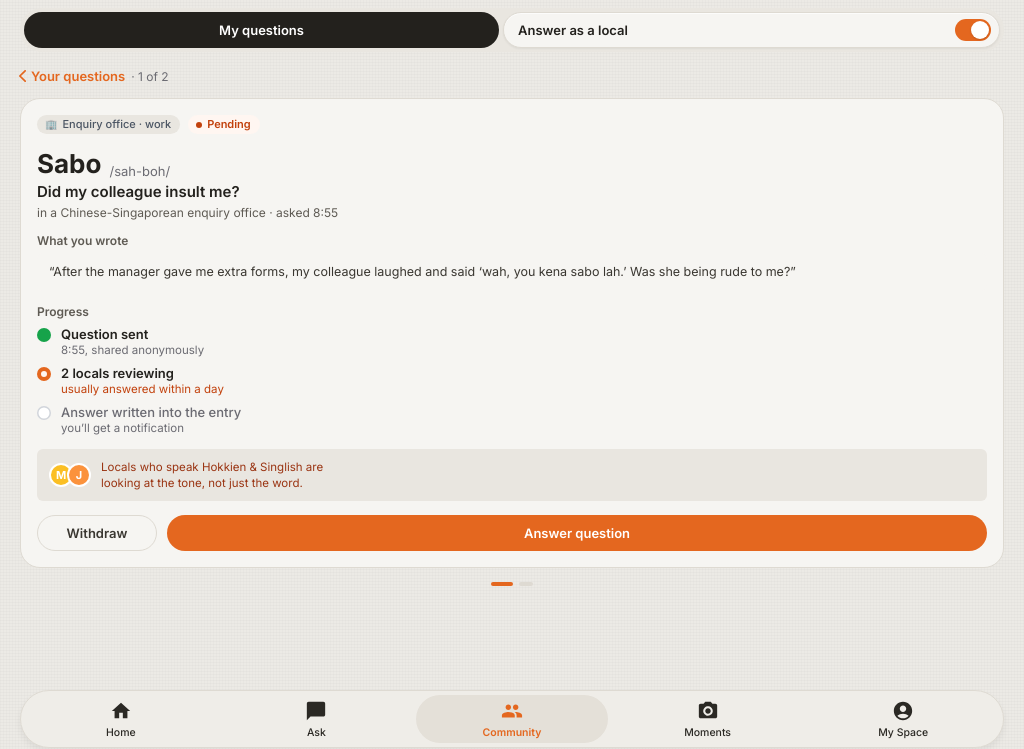
Scenario: as a local, answering marks the question answered and writes it into the phrase entry
(page scrolled)
Click the button "Answer question". click: (577, 533)
box: top-left (167, 515), bottom-right (987, 551)
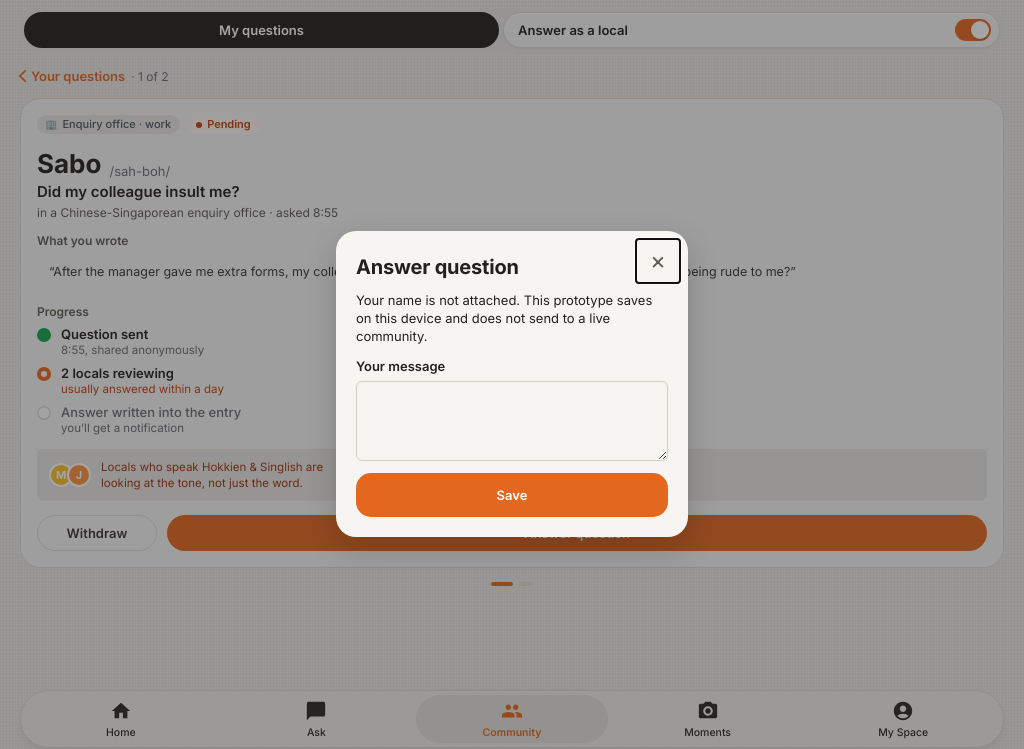
Type "Just teasing, not rude." into the text box labelled "Your message". click: (512, 421)
box: top-left (356, 381), bottom-right (668, 461)
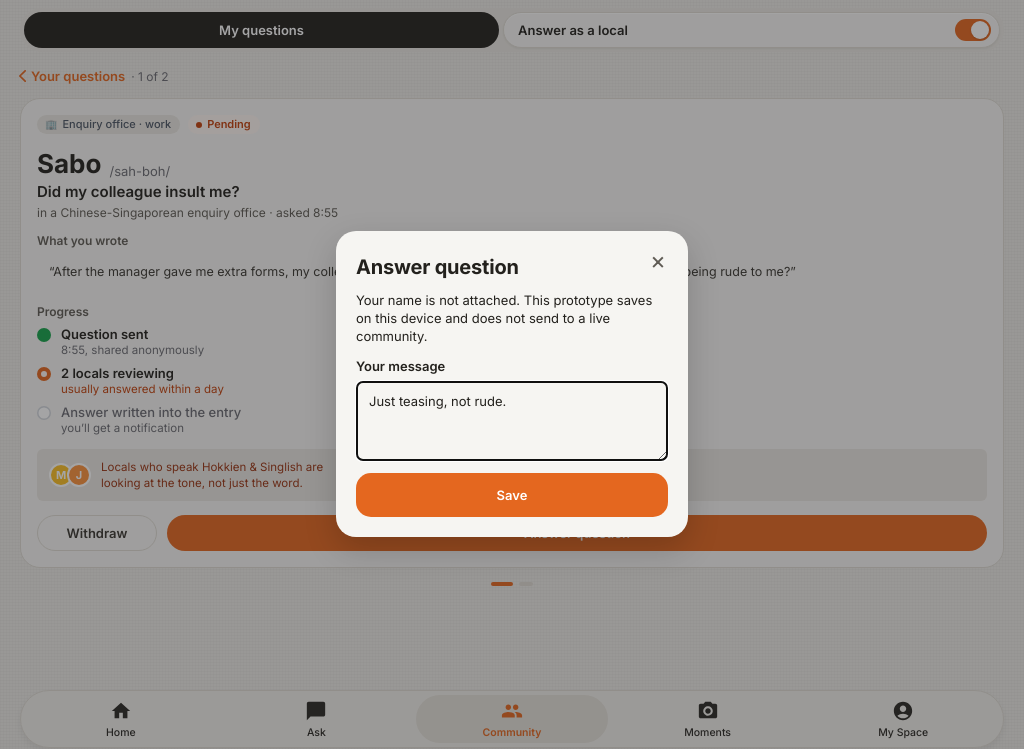
Click the button "Save". click: (512, 495)
box: top-left (356, 473), bottom-right (668, 517)
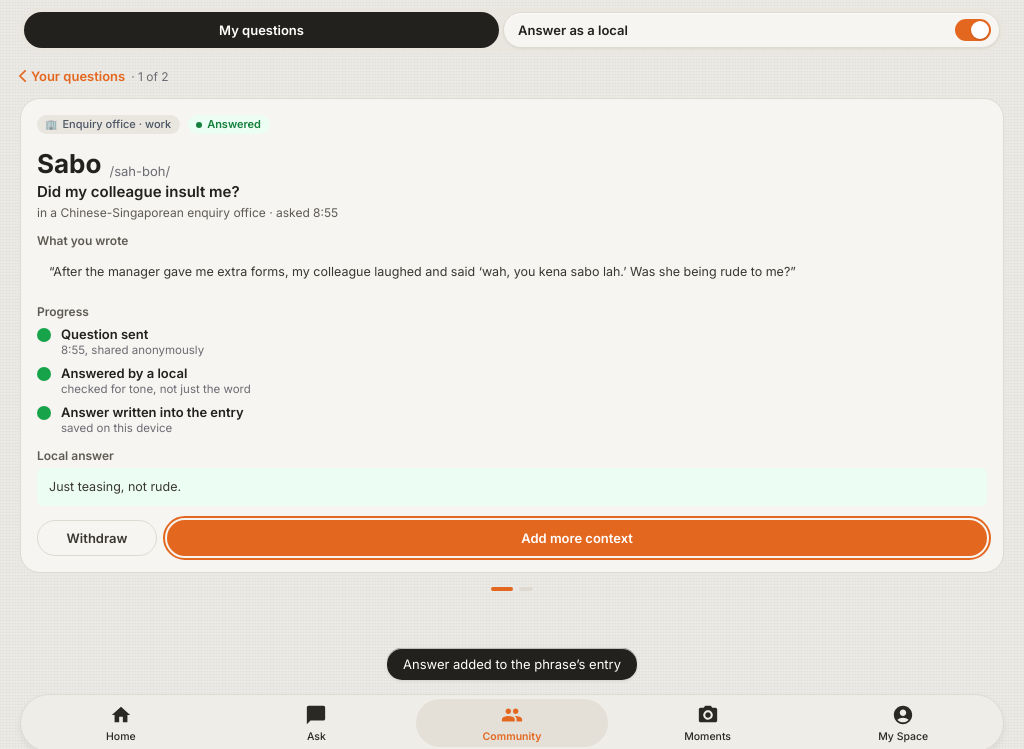
Result: the text "Answered" is shown at top-left (188, 115), bottom-right (270, 134)
Result: the text "Just teasing, not rude." is shown at top-left (37, 468), bottom-right (987, 506)
Result: the message reads "Answer added to the phrase’s entry" at top-left (403, 656), bottom-right (621, 672)
